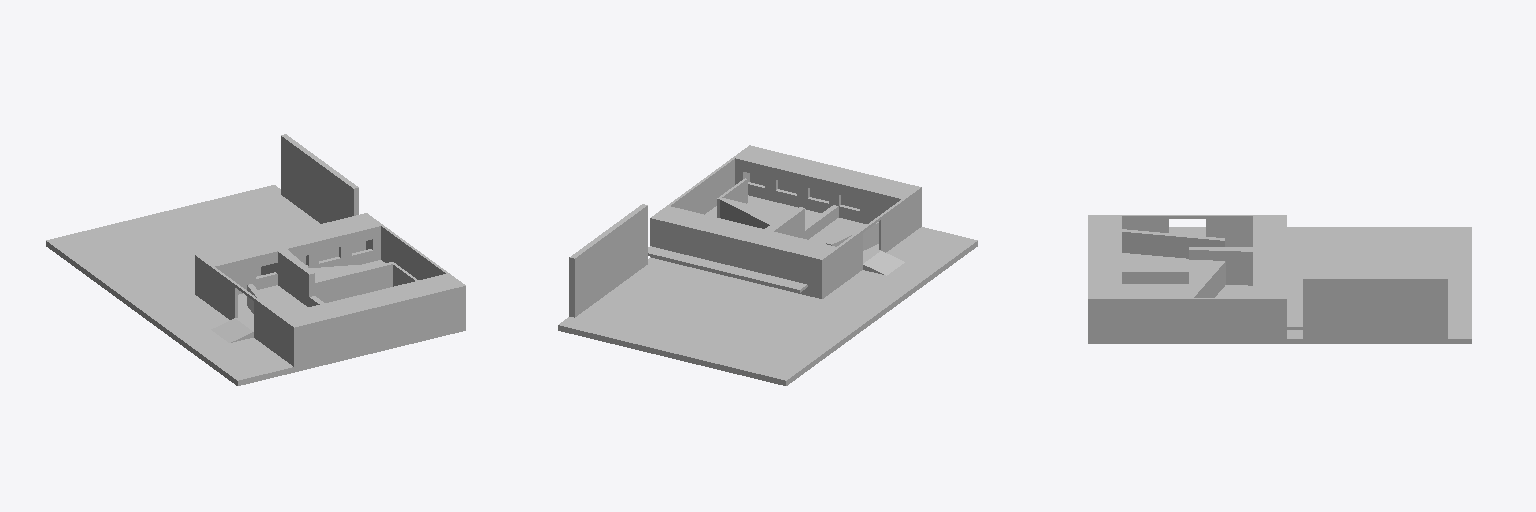
The model's file is time-trial-training.obj.
3 renders of one model, left to right at view 1: azimuth 30°, elevation 25°; view 2: azimuth 150°, elevation 25°; view 3: azimuth 270°, elevation 25°, orthographic.
Visible parts, largest first — view 1: entity0_brush5, entity0_brush40, entity0_brush72, entity0_brush70, entity0_brush41, entity0_brush12, entity0_brush69, entity0_brush0, entity0_brush7, entity0_brush1, entity0_brush2, entity0_brush23 (+3 smaller); view 2: entity0_brush5, entity0_brush11, entity0_brush72, entity0_brush41, entity0_brush12, entity0_brush0, entity0_brush73, entity0_brush7, entity0_brush70, entity0_brush2, entity0_brush1, entity0_brush49 (+6 smaller); view 3: entity0_brush5, entity0_brush72, entity0_brush0, entity0_brush7, entity0_brush41, entity0_brush12, entity0_brush8, entity0_brush69, entity0_brush1, entity0_brush70, entity0_brush73, entity0_brush38 (+3 smaller).
Boxes of the visible parts, box(x1,y1,x2,y2) form: entity0_brush5: box(46, 185, 465, 385); entity0_brush40: box(295, 286, 464, 371); entity0_brush72: box(281, 134, 358, 223); entity0_brush70: box(309, 262, 392, 302); entity0_brush41: box(281, 275, 463, 326); entity0_brush12: box(200, 214, 379, 264); entity0_brush69: box(261, 237, 314, 306); entity0_brush0: box(381, 224, 449, 279); entity0_brush7: box(210, 260, 384, 355); entity0_brush1: box(210, 266, 237, 319); entity0_brush2: box(254, 298, 280, 354); entity0_brush23: box(210, 255, 255, 305); entity0_brush5: box(558, 227, 977, 385); entity0_brush11: box(652, 218, 818, 297); entity0_brush72: box(569, 204, 647, 317); entity0_brush41: box(737, 146, 919, 197); entity0_brush12: box(653, 208, 832, 257); entity0_brush0: box(666, 158, 734, 214); entity0_brush73: box(648, 246, 807, 292); entity0_brush7: box(705, 195, 903, 286); entity0_brush70: box(720, 198, 787, 228); entity0_brush2: box(879, 198, 905, 252); entity0_brush1: box(837, 230, 862, 287); entity0_brush49: box(860, 188, 904, 223); entity0_brush5: box(1088, 227, 1471, 343); entity0_brush72: box(1303, 277, 1447, 343); entity0_brush0: box(1119, 298, 1255, 338); entity0_brush7: box(1119, 253, 1255, 338); entity0_brush41: box(1090, 216, 1117, 297); entity0_brush12: box(1257, 217, 1284, 297); entity0_brush8: box(1122, 229, 1224, 258); entity0_brush69: box(1189, 247, 1256, 285); entity0_brush1: box(1206, 215, 1255, 246); entity0_brush70: box(1189, 260, 1225, 297); entity0_brush73: box(1287, 250, 1302, 329); entity0_brush38: box(1088, 298, 1118, 342).
Bounding box in the file's own units: 1360 × 368 × 1976.